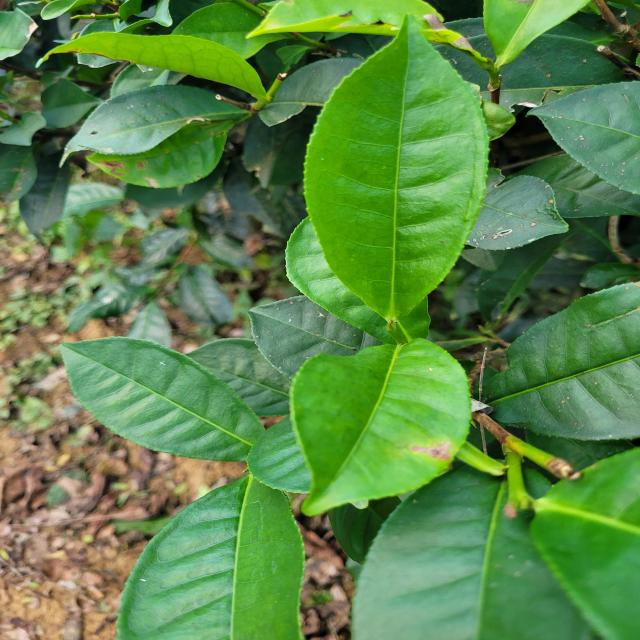Catagory A(1-2 days): (300, 10, 506, 330)
